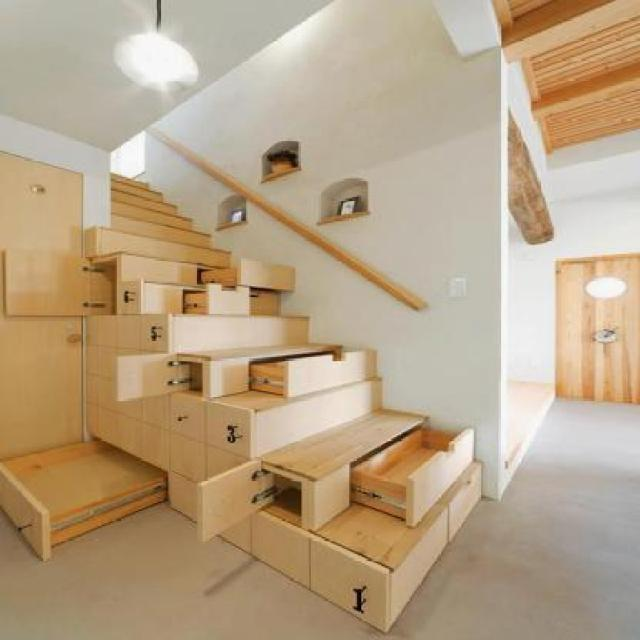stair: (29, 112, 540, 632)
